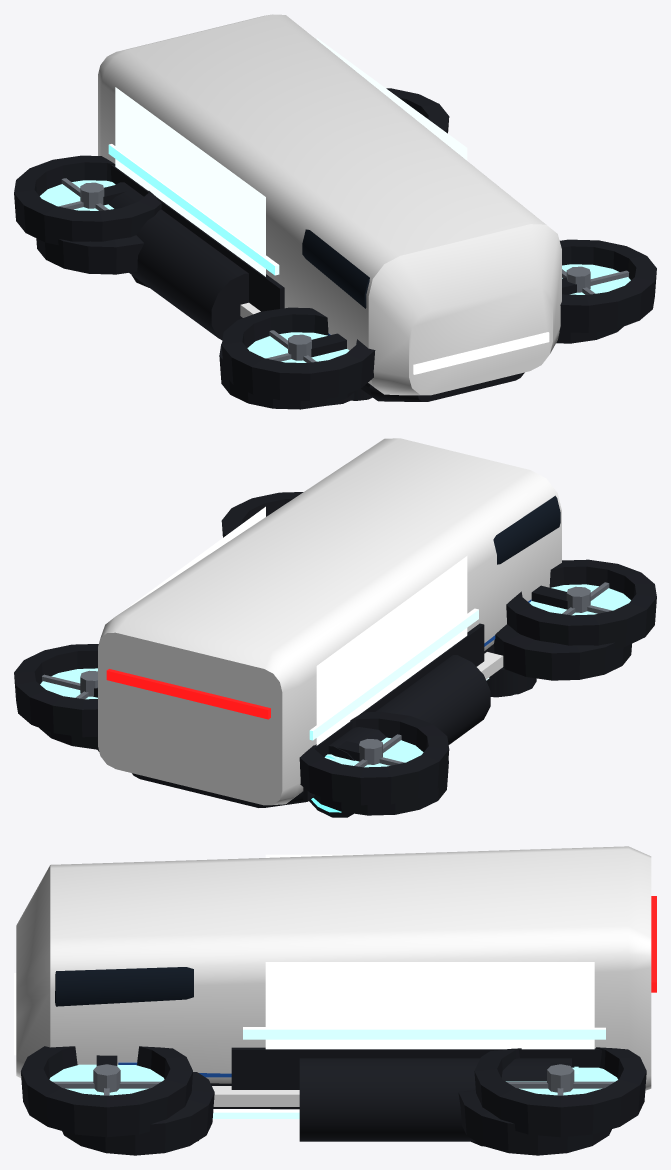
The model's file is fut_cars.glb.
3 renders of one model, top to bottom at view 1: azimuth 30°, elevation 25°; view 2: azimuth 150°, elevation 25°; view 3: azimuth 270°, elevation 25°, orthographic. The views are drawn at different scales.
Visible parts, largest first — view 1: FC_van, FC_sport, FC_police; view 2: FC_van, FC_police, FC_sport, FC_taxi; view 3: FC_van, FC_sport, FC_police, FC_taxi.
Boxes of the visible parts, box(x1,y1,x2,y2) form: FC_van: box(14, 14, 656, 400); FC_sport: box(108, 182, 372, 400); FC_police: box(36, 235, 623, 409); FC_van: box(14, 438, 656, 805); FC_police: box(39, 599, 631, 815); FC_sport: box(97, 652, 503, 817); FC_taxi: box(484, 644, 536, 695); FC_van: box(14, 846, 656, 1137); FC_sport: box(212, 1058, 578, 1141); FC_police: box(62, 1062, 611, 1155); FC_taxi: box(210, 1083, 299, 1117).
Size of the model in its own units: 4.62 by 1.97 by 5.67.
